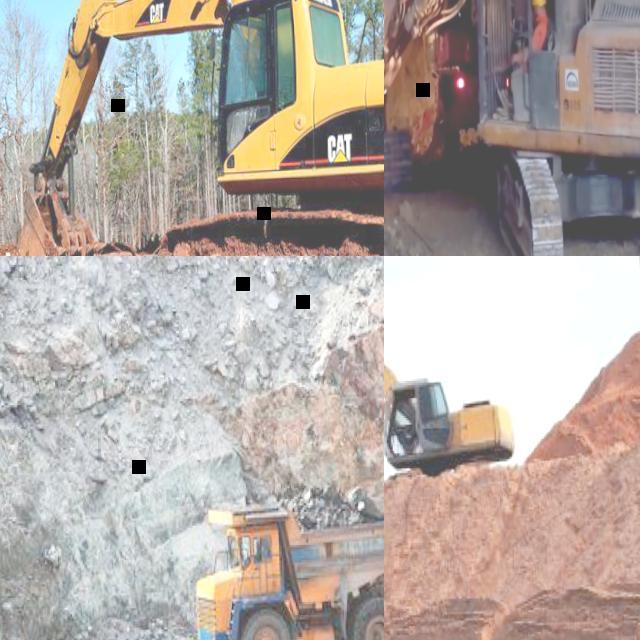helmet: (532, 0, 546, 6)
vest: (531, 11, 550, 51)
